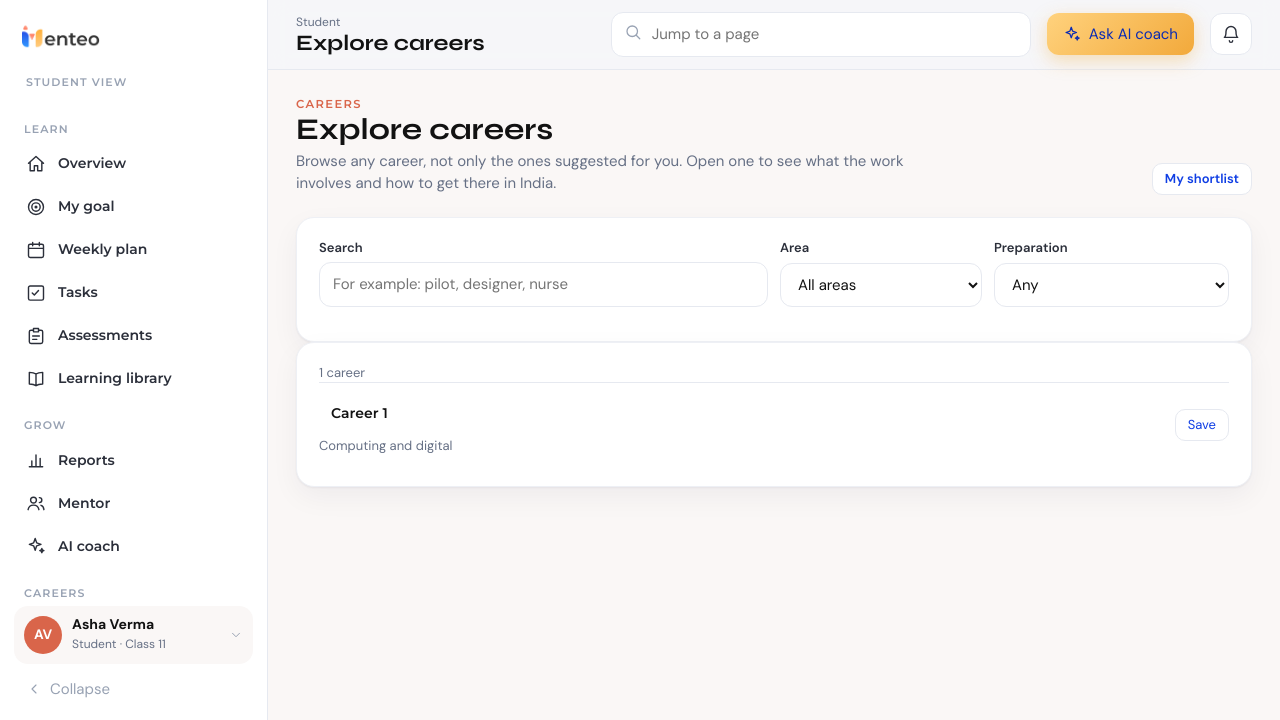
Test: explore › says so when nothing matches, and saves and removes a career from the list
Click the button with aria-label "save to my shortlist: career 1" at [1202, 424], box left=1175, top=408, right=1229, bottom=440
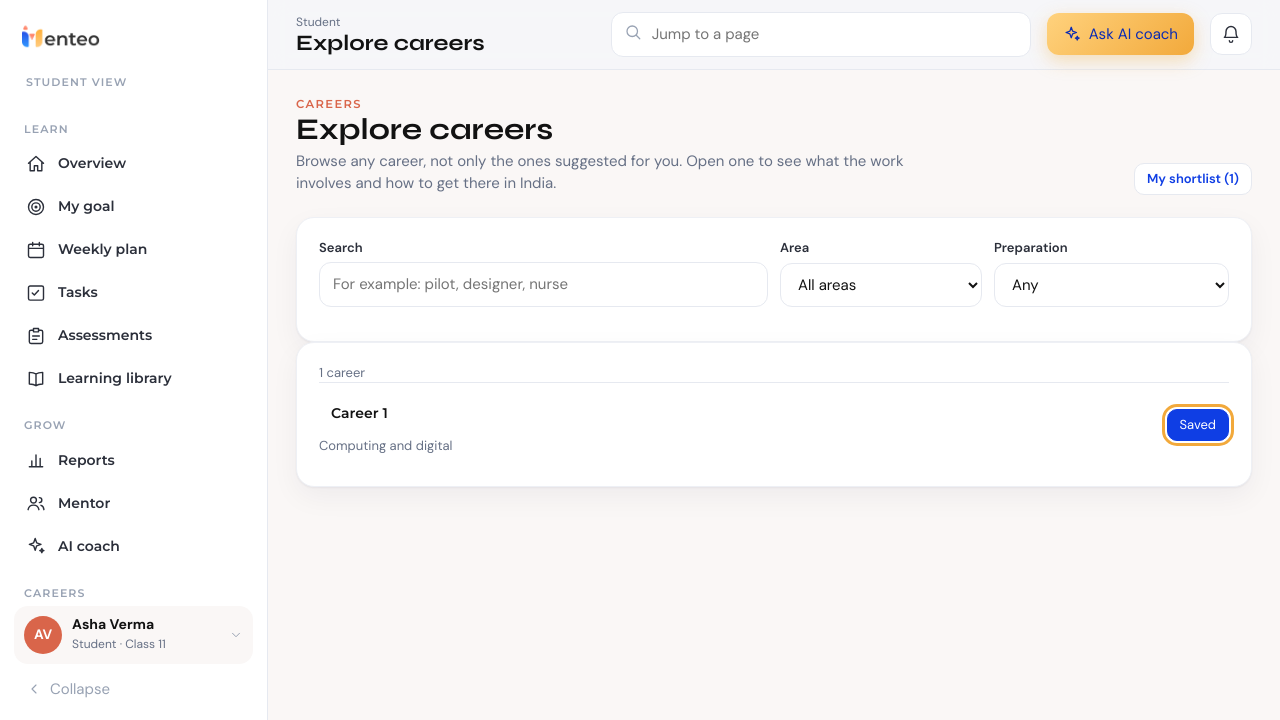
Expected: the button with aria-label "remove from my shortlist: career 1" is shown
Click the button with aria-label "remove from my shortlist: career 1" at [1198, 424], box left=1167, top=408, right=1229, bottom=440
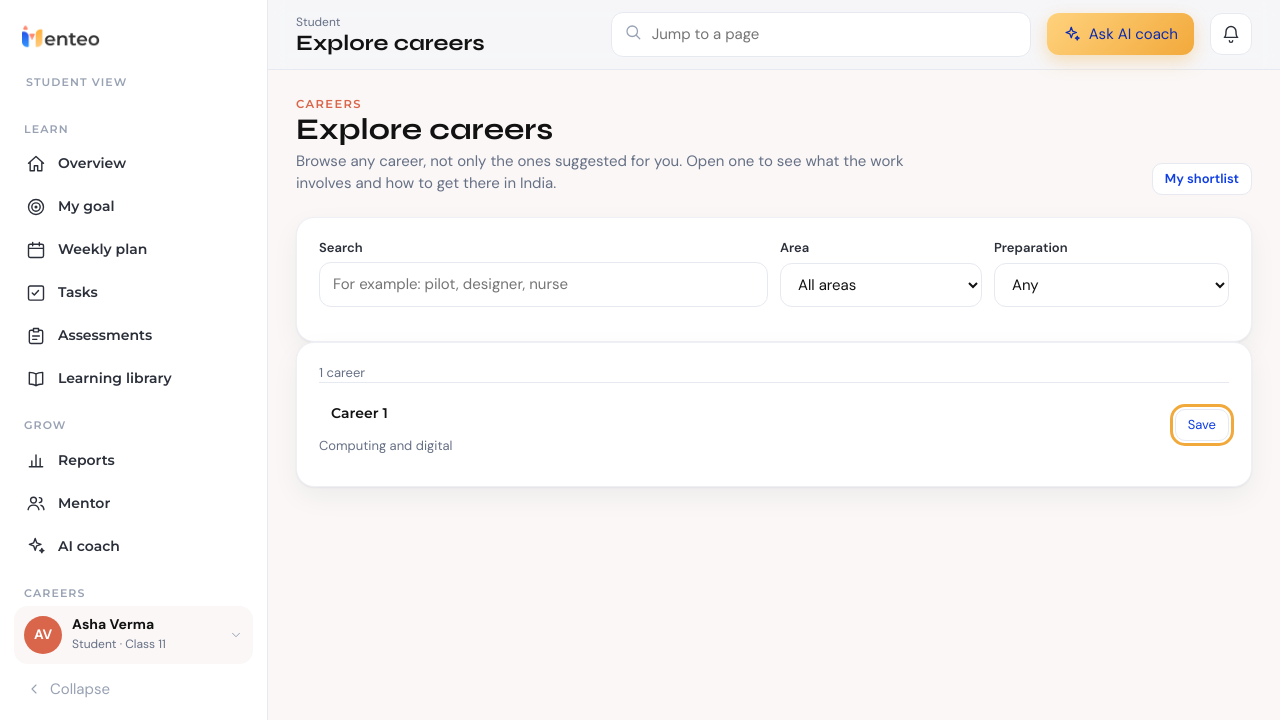
Expected: the button with aria-label "save to my shortlist: career 1" is shown, left=1175, top=408, right=1229, bottom=440
